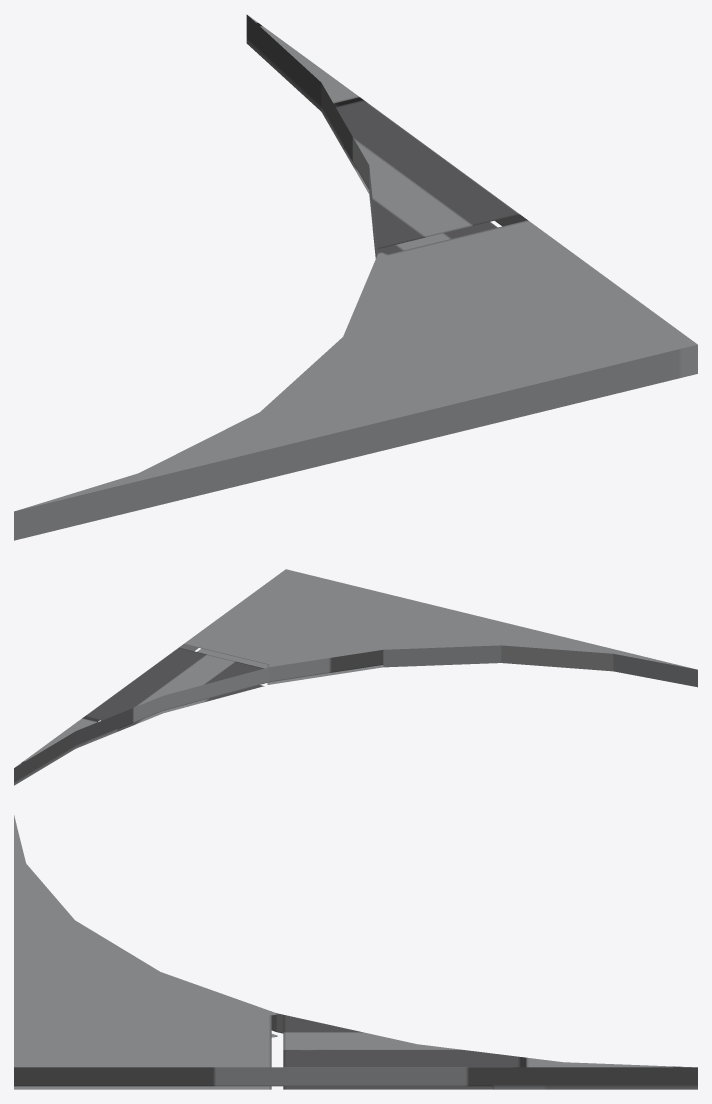
3 views of the same model, one above another, from view 1: azimuth 30°, elevation 25°; view 2: azimuth 150°, elevation 25°; view 3: azimuth 270°, elevation 25° (orthographic). The views are drawn at different scales.
Size of the model in its own units: 0.9016 by 0.0368 by 1.03.
